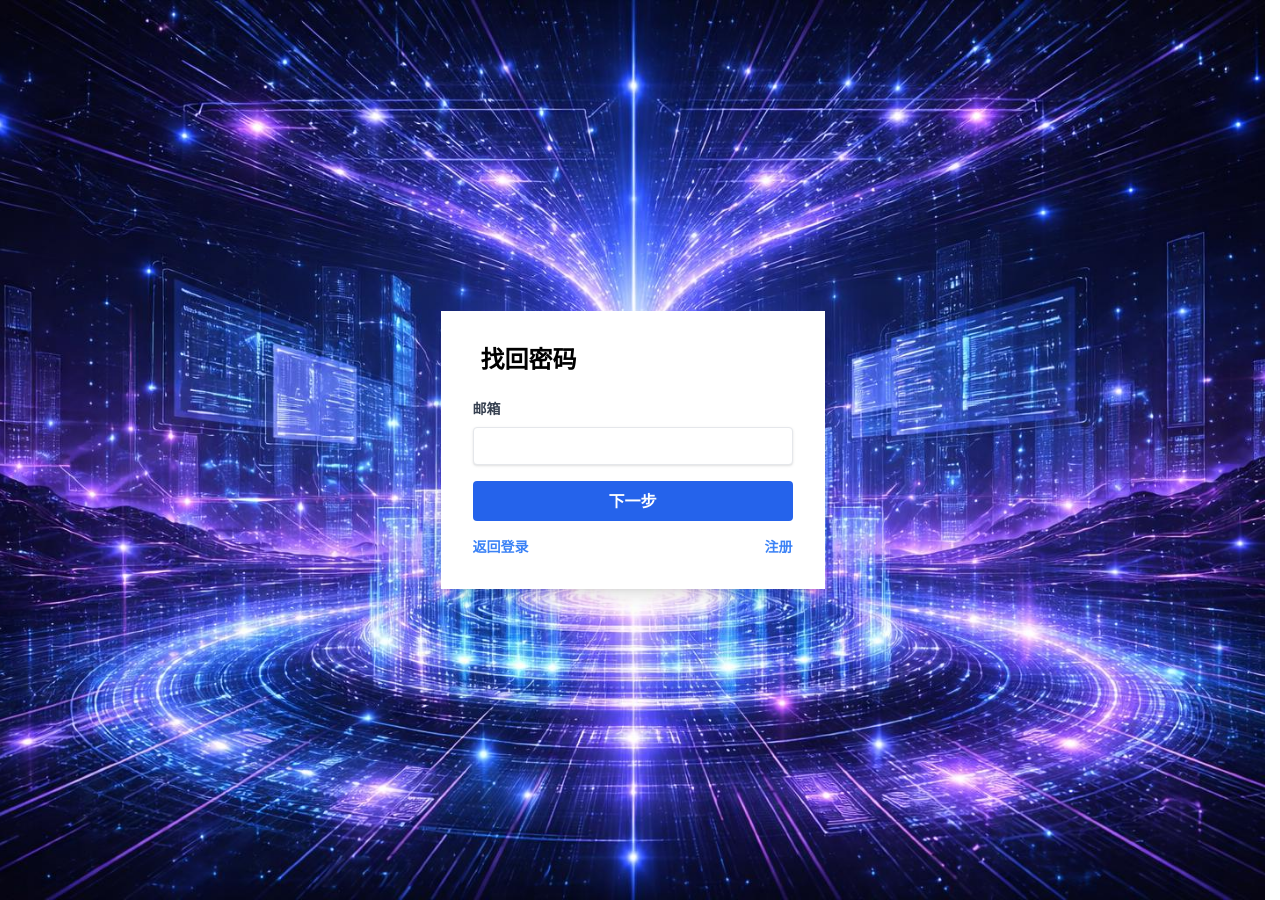
Test: ForgotPassword › uses default resend wait seconds when resend response omits fields
In the field labelled "邮箱": {"x": 632, "y": 446} [472, 427, 792, 465], type "email@example.com"
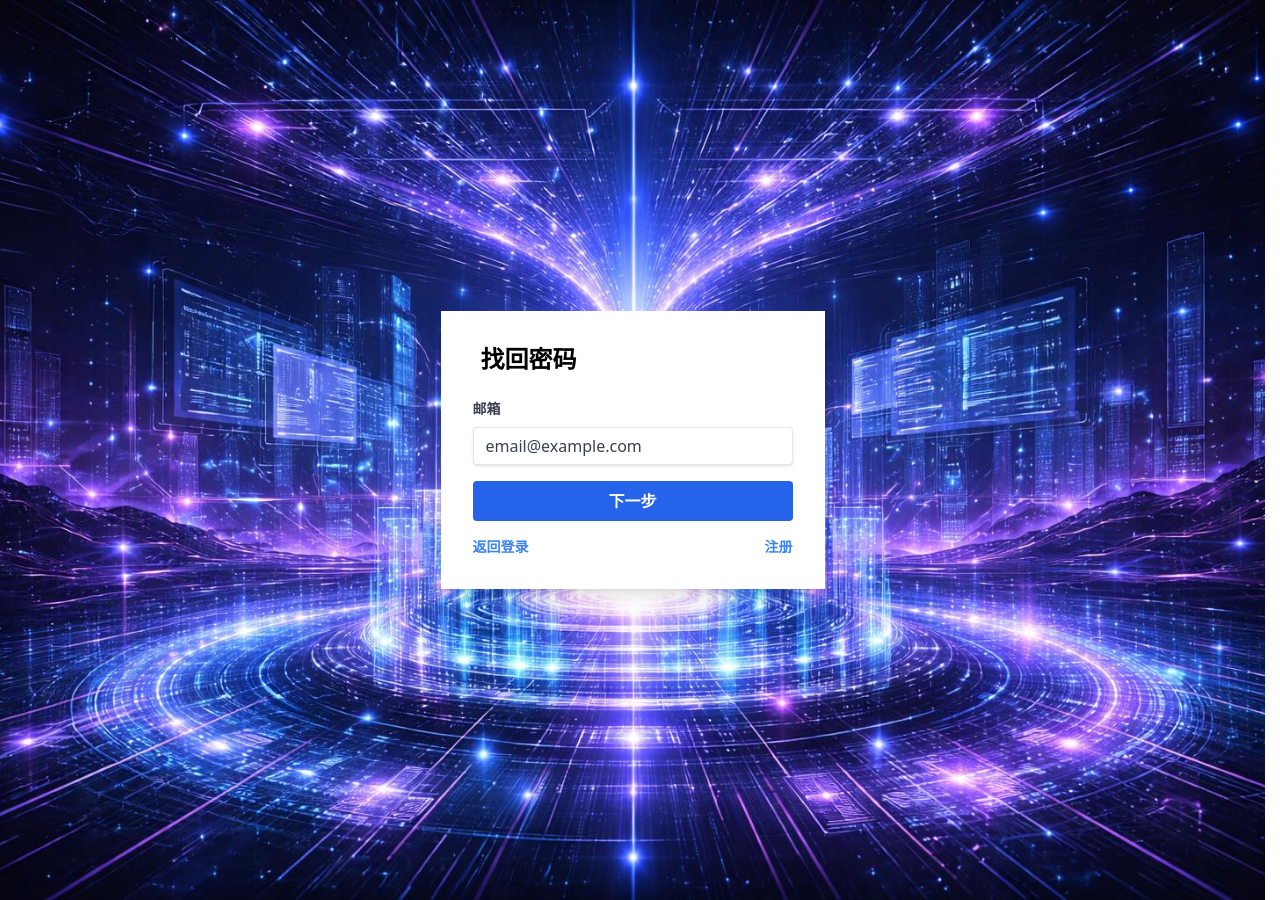
Click the button "下一步": {"x": 632, "y": 501} [472, 481, 792, 521]
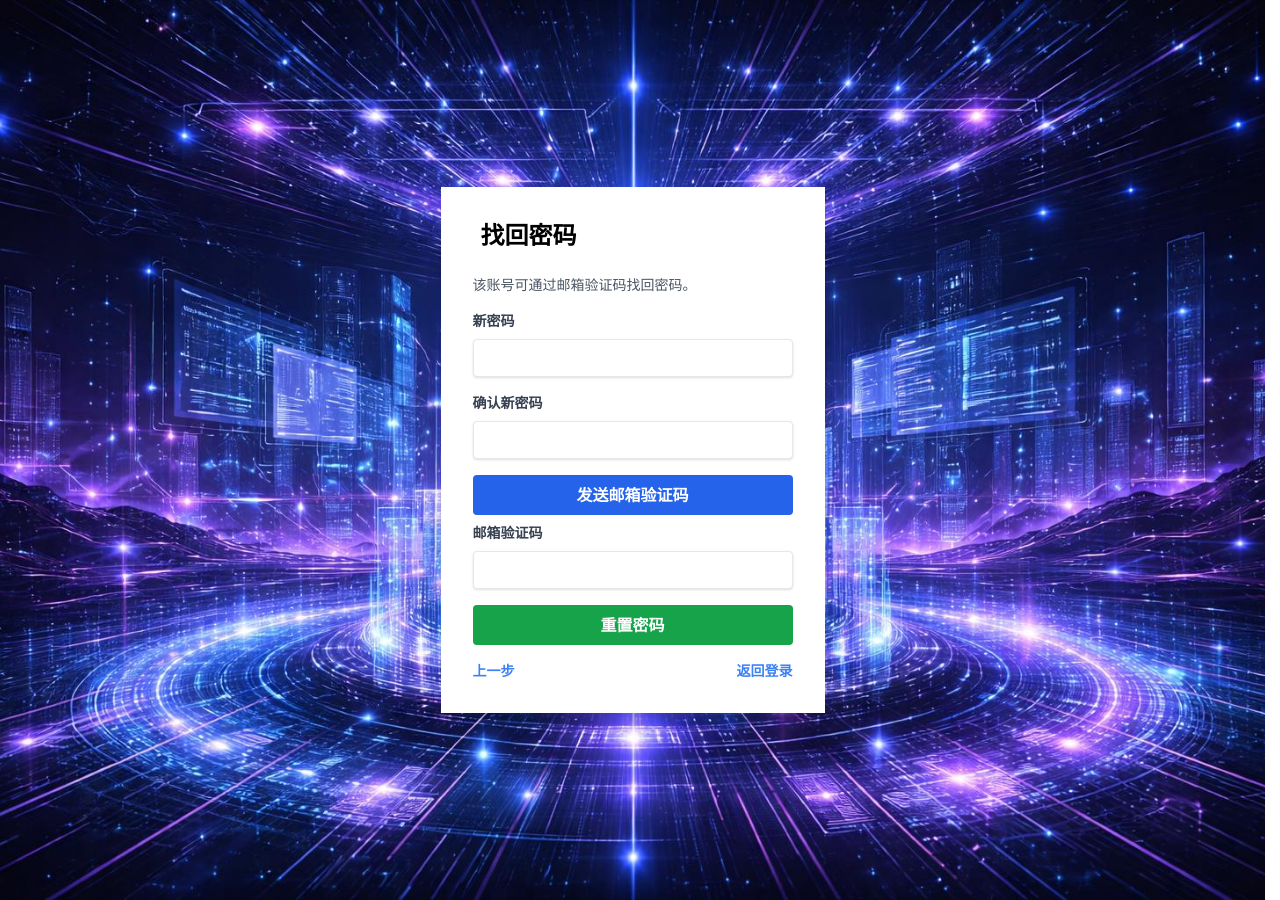
Check: the text "该账号可通过邮箱验证码找回密码。" is shown, box [472, 275, 696, 294]
Click the button "发送邮箱验证码": {"x": 632, "y": 495} [472, 475, 792, 515]
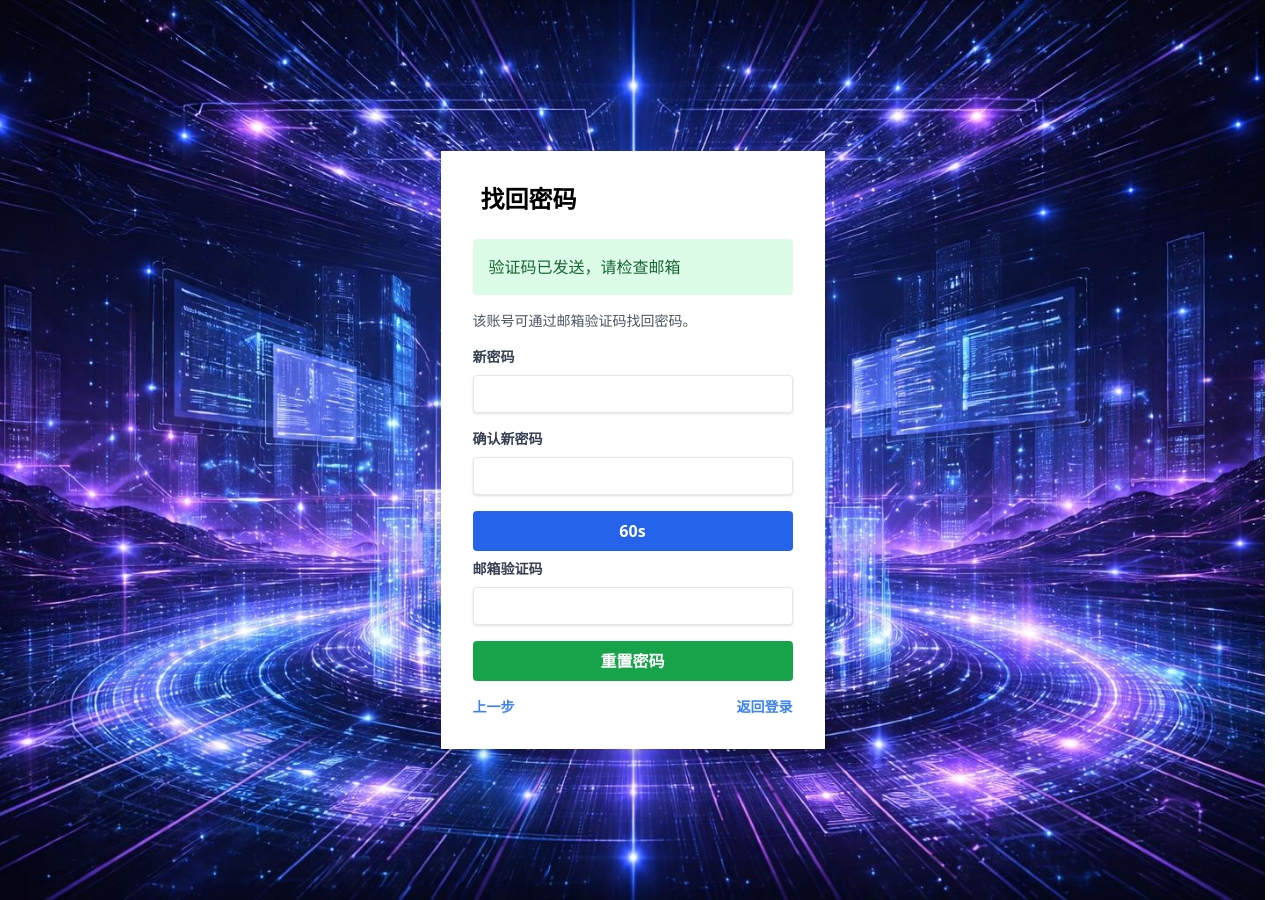
Check: the text "验证码已发送，请检查邮箱" is shown, box [472, 239, 792, 295]
Check: the button "60s" is disabled, box [472, 511, 792, 551]
